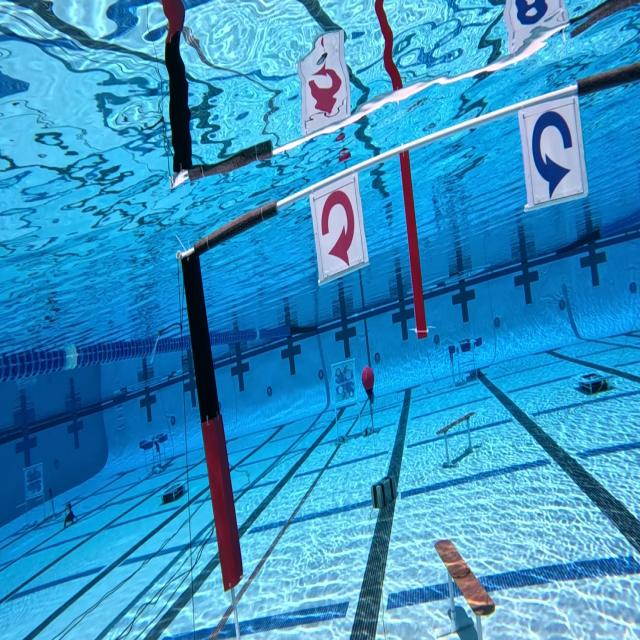blue_side: (516, 88, 592, 218)
red_side: (304, 171, 372, 283)
